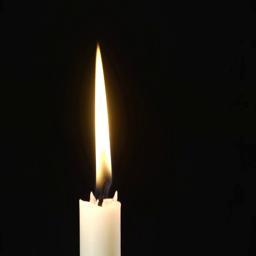fire: (93, 45, 114, 186)
